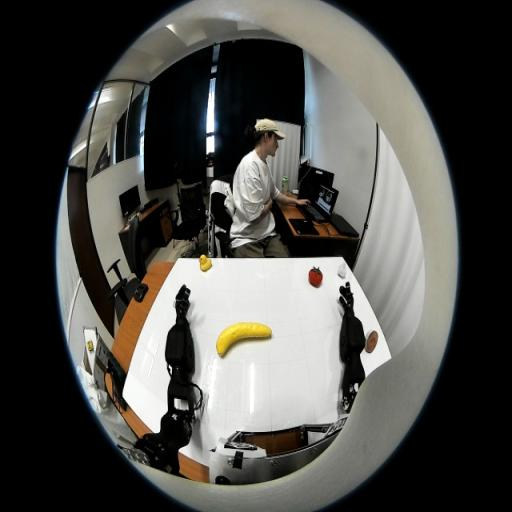Banana: (216, 321, 272, 357)
Duck: (198, 254, 212, 272)
LeftHand: (176, 304, 186, 316)
Mushroom: (364, 329, 378, 353)
Onion: (337, 262, 347, 278)
RightHand: (344, 299, 354, 312)
Tomato: (308, 267, 323, 287)
